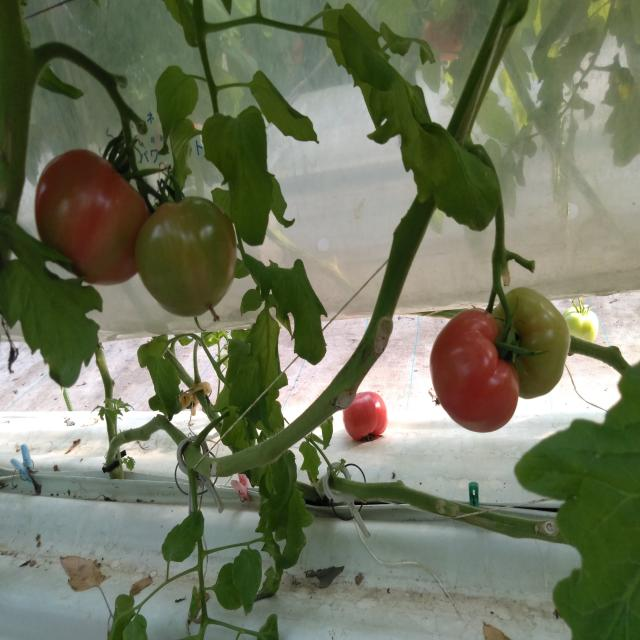n-half-riped: (34, 150, 151, 287), (133, 195, 238, 319)
n-riped: (429, 307, 519, 433), (343, 392, 389, 441)
n-unriped: (489, 288, 572, 400), (562, 306, 598, 343)
